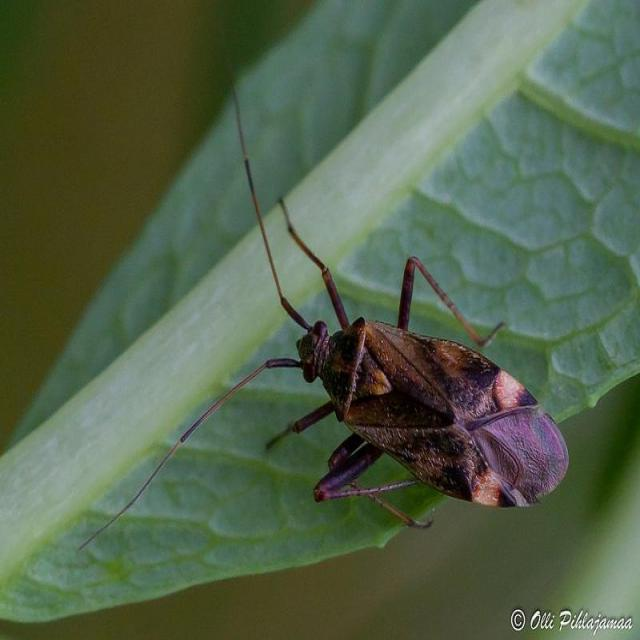Miridae-Adult-: (173, 34, 572, 535)
